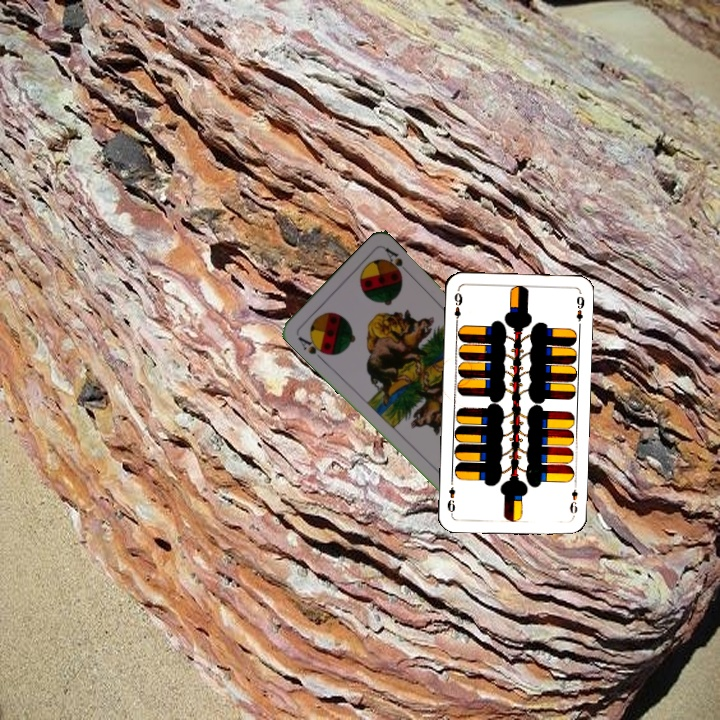E9: (450, 289, 465, 327), (566, 479, 580, 519)
SA: (294, 331, 330, 362)
